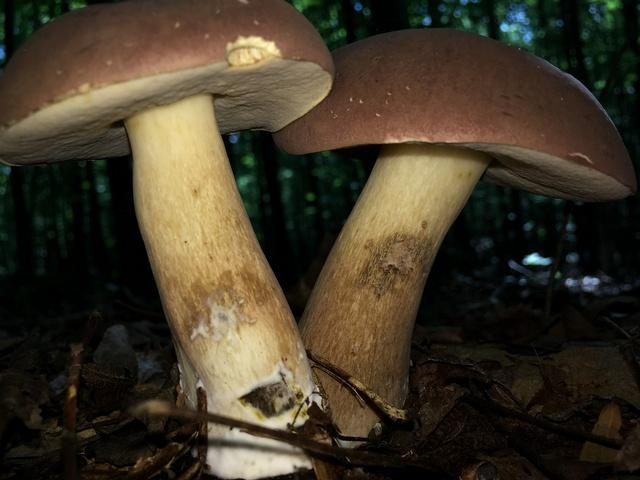Non-edible Mushroom: (0, 0, 337, 478), (270, 25, 637, 448)
